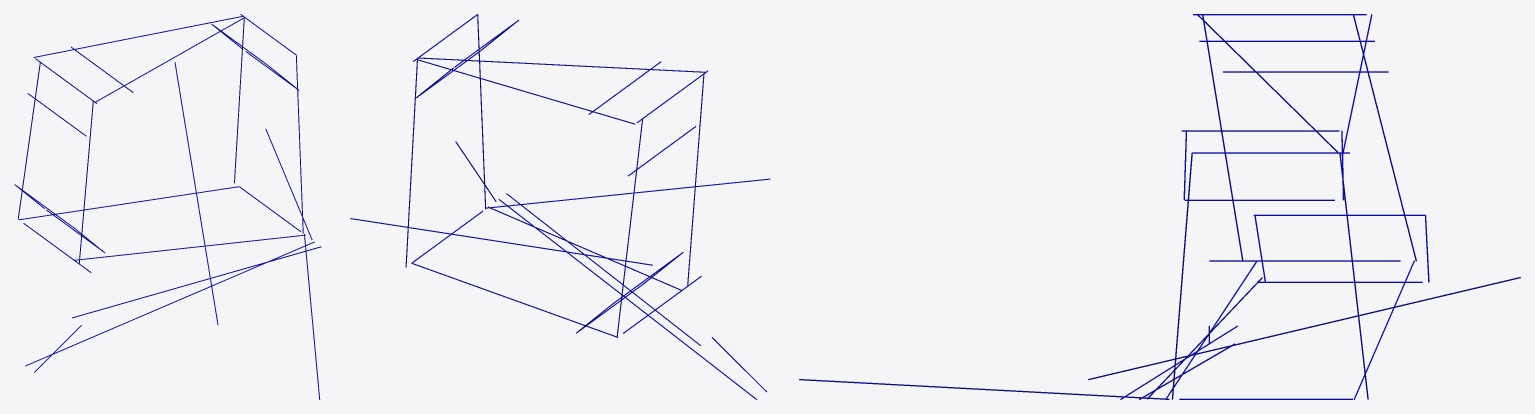
The model's file is corrected_3d_strokes.glb.
3 renders of one model, left to right at view 1: azimuth 30°, elevation 25°; view 2: azimuth 150°, elevation 25°; view 3: azimuth 270°, elevation 25°, orthographic. The views are drawn at different scales.
Parts seen in each view (by area): view 1: world; view 2: world; view 3: world.
Boxes of the visible parts, x1,y1,x2,y2 form: world: (14,14,321,399); world: (350,14,770,399); world: (799,14,1520,399).
Bounding box in the file's own units: 12.06 × 11.68 × 20.65.
